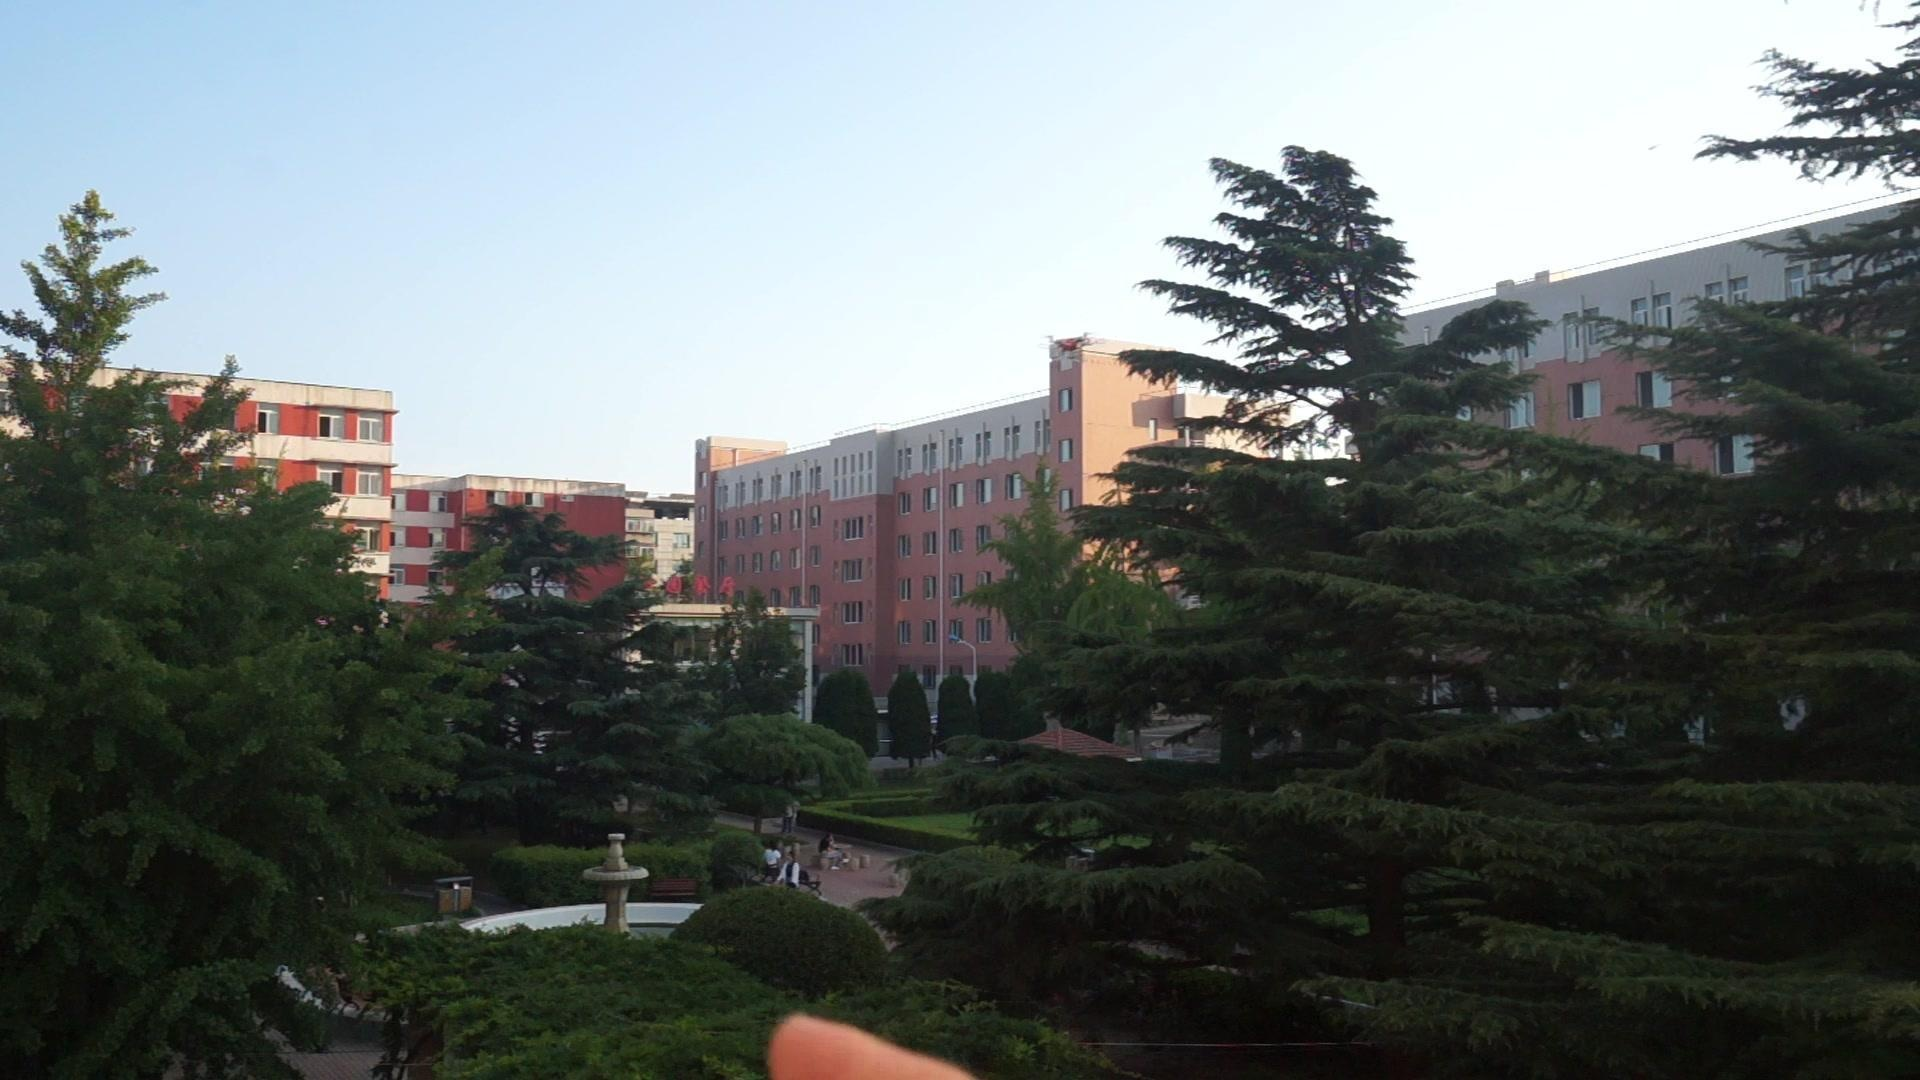UAV: (1042, 334, 1108, 360)
